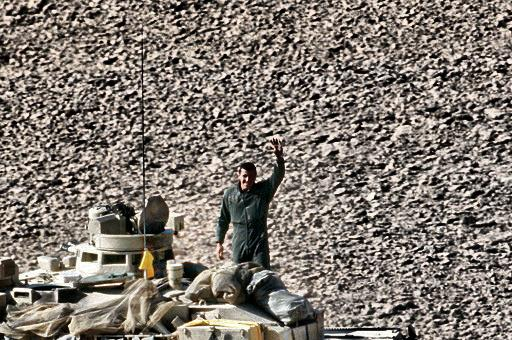tanks: (1, 231, 418, 340)
